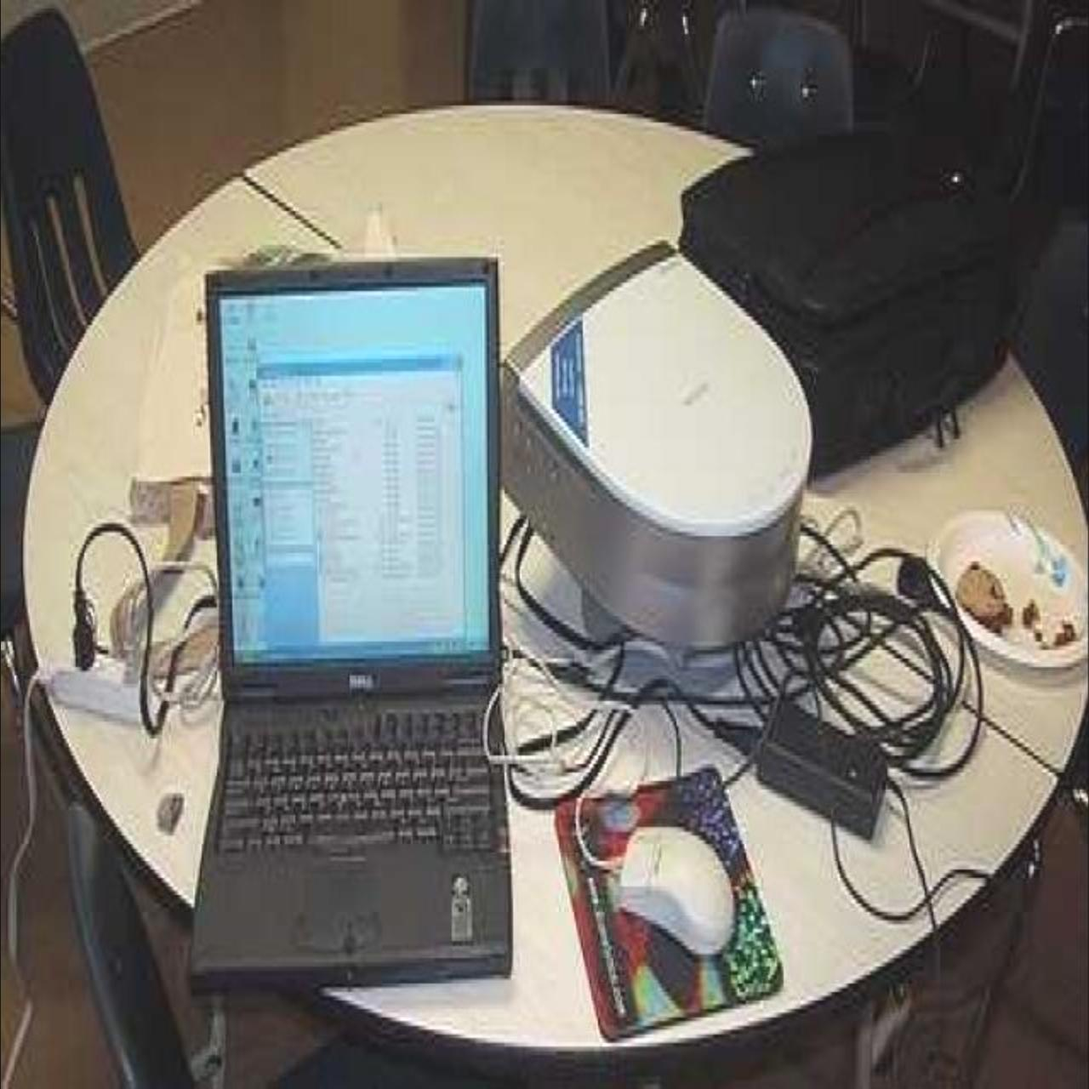laptop: (198, 279, 523, 1028)
